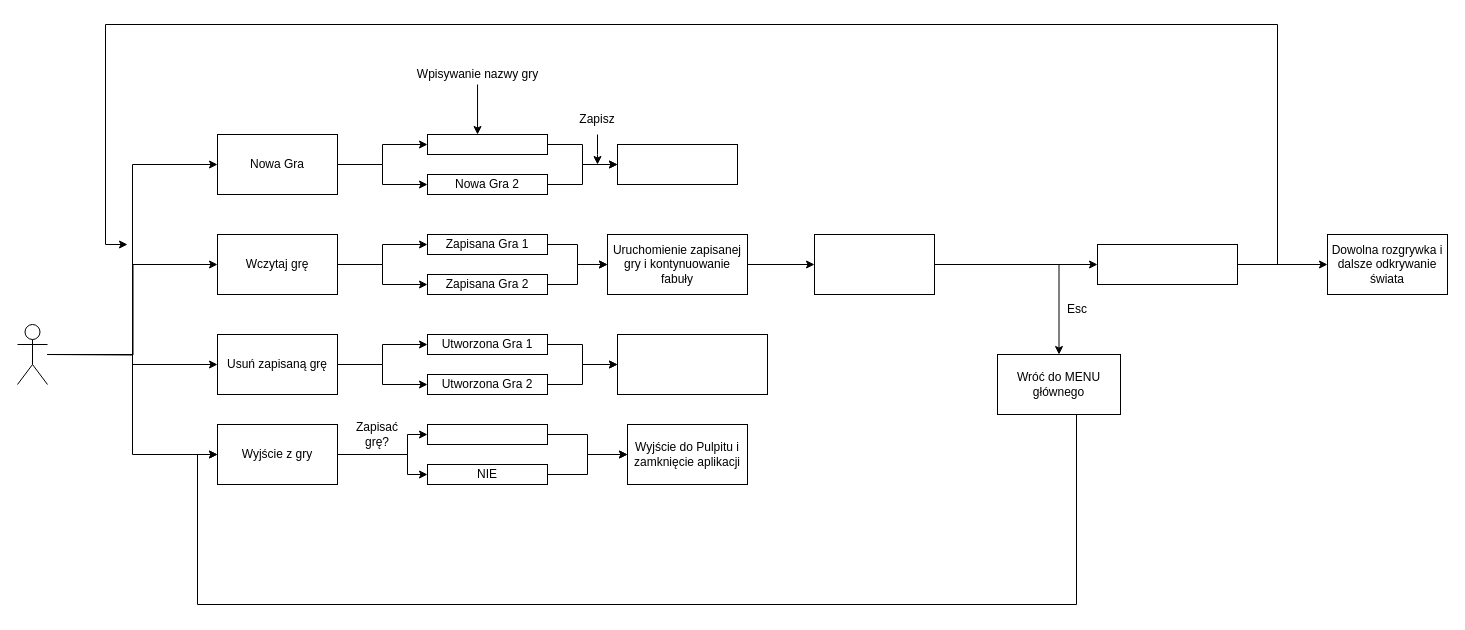
Some shapes in this 1465 by 630 pixel diagram are drawn without their labels. Each missing label, with the box of its shape:
Actor: (16, 324, 48, 384)
Koniec fabuły: (1096, 244, 1238, 284)
Nowa Gra 1: (426, 134, 548, 154)
PRZECHODZENIE FABUŁY: (814, 234, 934, 294)
TAK: (426, 424, 548, 444)
Usuwanie zapisanej wcześniej gry oraz zwolnienie slotu na zapisanie nowej gry: (616, 334, 768, 394)
Utworzono grę: (616, 144, 738, 184)
